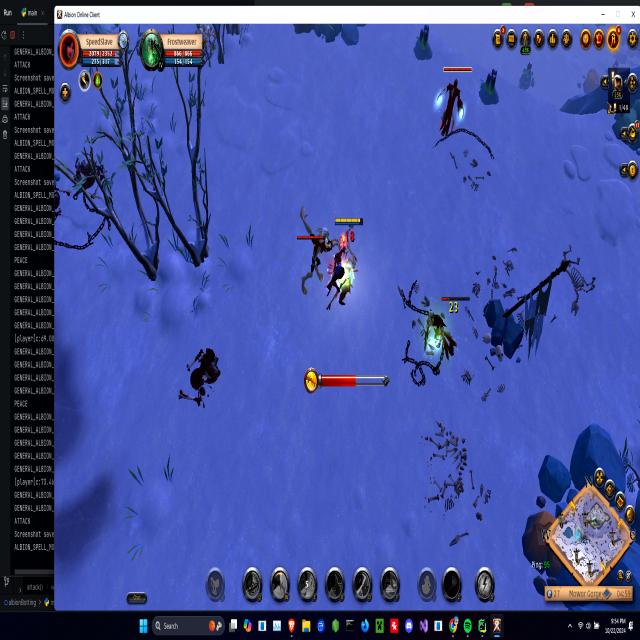ore: (417, 288, 477, 365), (292, 205, 334, 301), (437, 63, 474, 140)
player: (412, 22, 437, 62), (478, 67, 500, 108)
red: (325, 213, 365, 314)
